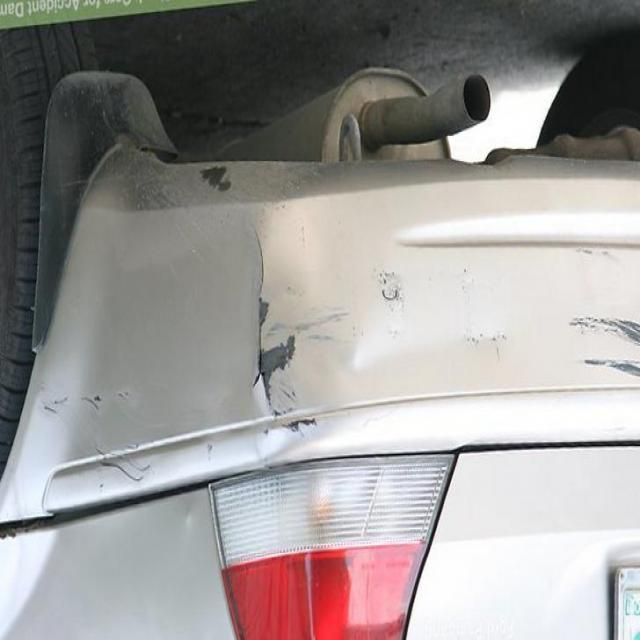scratch: (242, 224, 348, 446), (554, 263, 640, 390), (185, 156, 242, 198)
